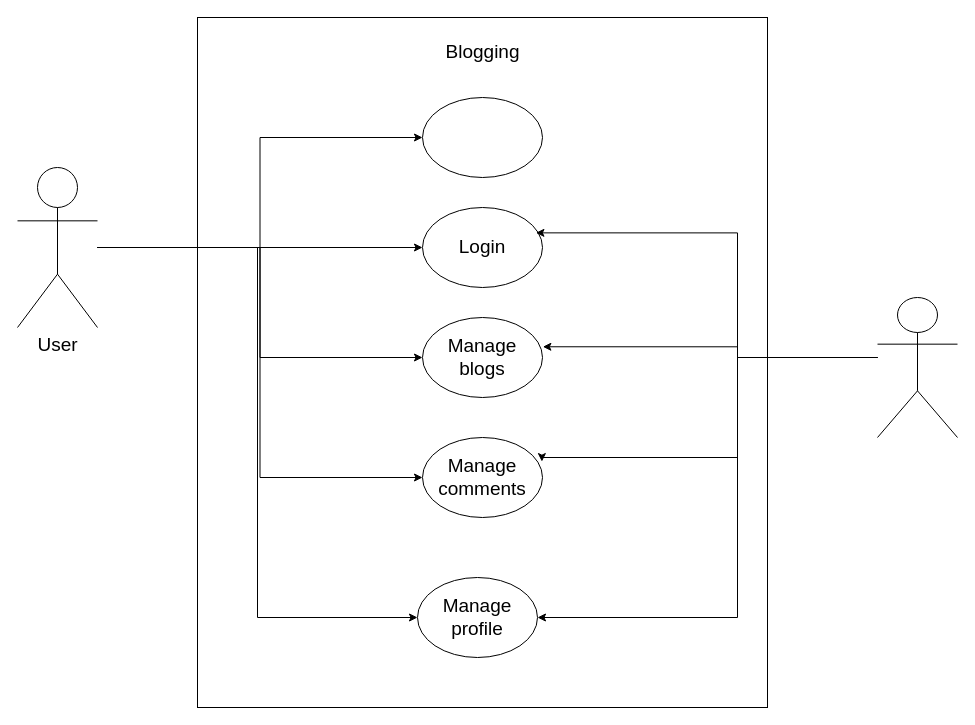
The diagram is 975 pixels wide and 725 high, and some of its shapes have lost their labels. Here are the shapes that lost their labels. From the top down, the box of each, then its label:
(422, 96, 542, 178): Registration
(876, 296, 958, 438): Admin
